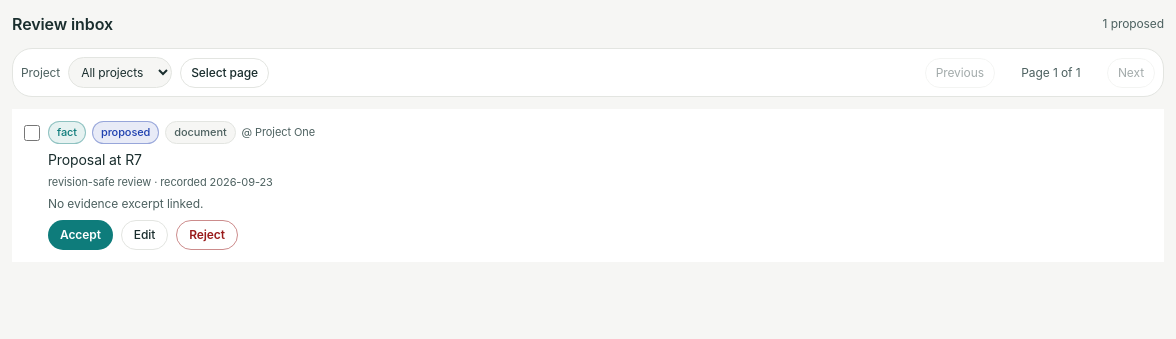
Test case: CK-A01 inbox revision-bound decisions › on stale_revision reloads and clears the old selection instead of applying the new revision
Click the checkbox named "Select record record-1": (32, 133) 24,125 -> 40,141
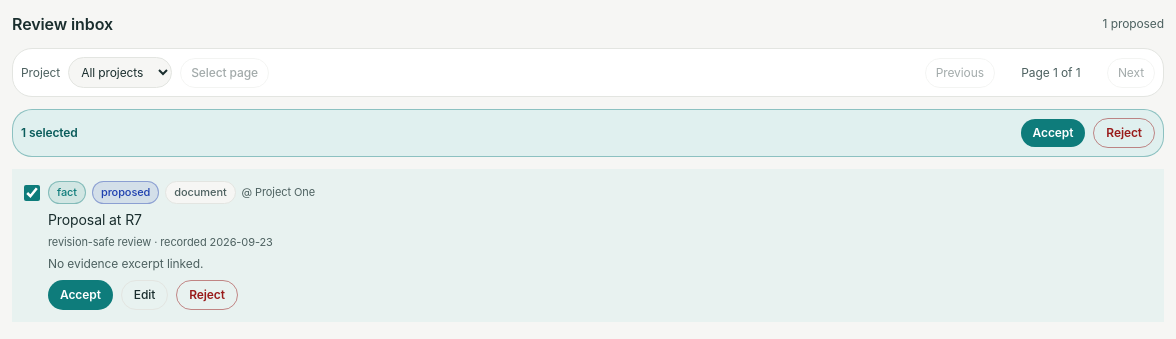
Click the button "Accept" in the row of "selected": (1053, 133) 1020,119 -> 1085,147
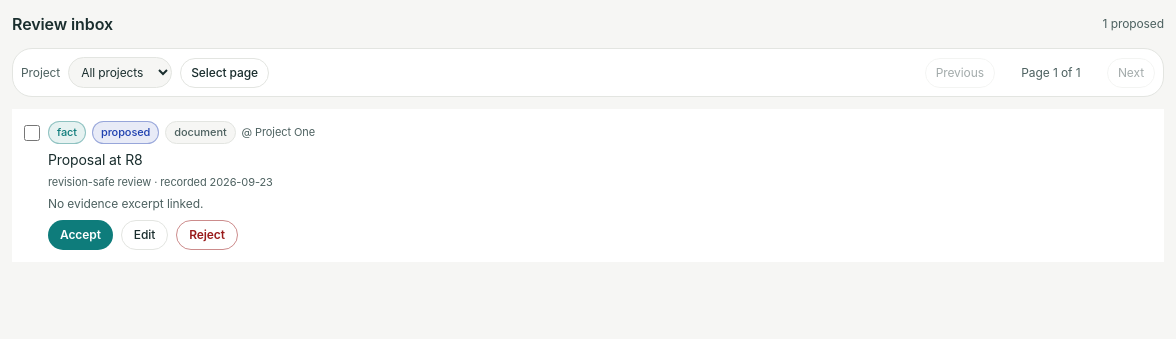
Expected: the checkbox named "Select record record-1" is not checked, 24,125 -> 40,141
Expected: the text "1 selected" is gone
